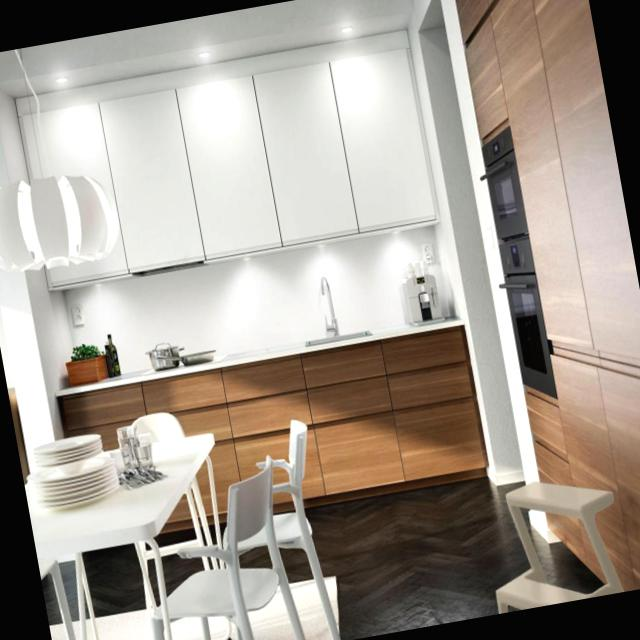footpath: (317, 476, 499, 640)
obstacle: (19, 423, 255, 640), (118, 416, 343, 640), (473, 466, 640, 614)
